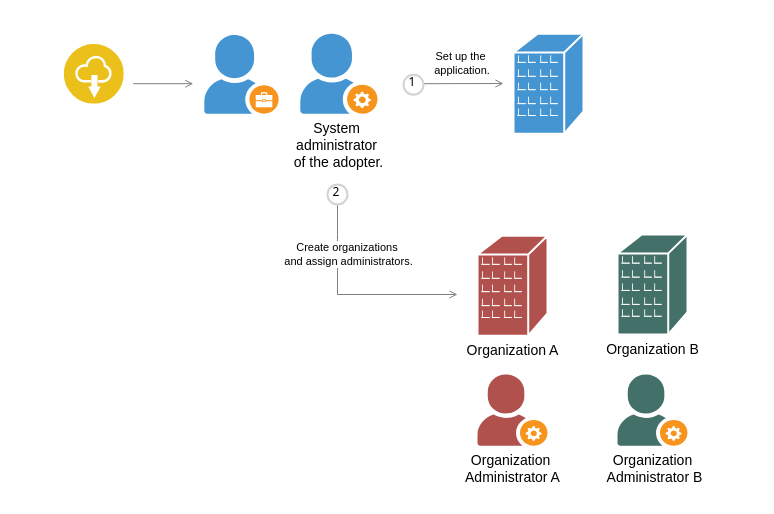
The diagram is 774 pixels wide and 514 high, and some of its shapes have lost their labels. Here are the shapes that lost their labels. From the top down, the box of each, then its label:
(64, 44, 124, 104): Mentor SaaS
(204, 34, 278, 113): Adopter
(512, 32, 584, 134): Default Organization (system-generated)
